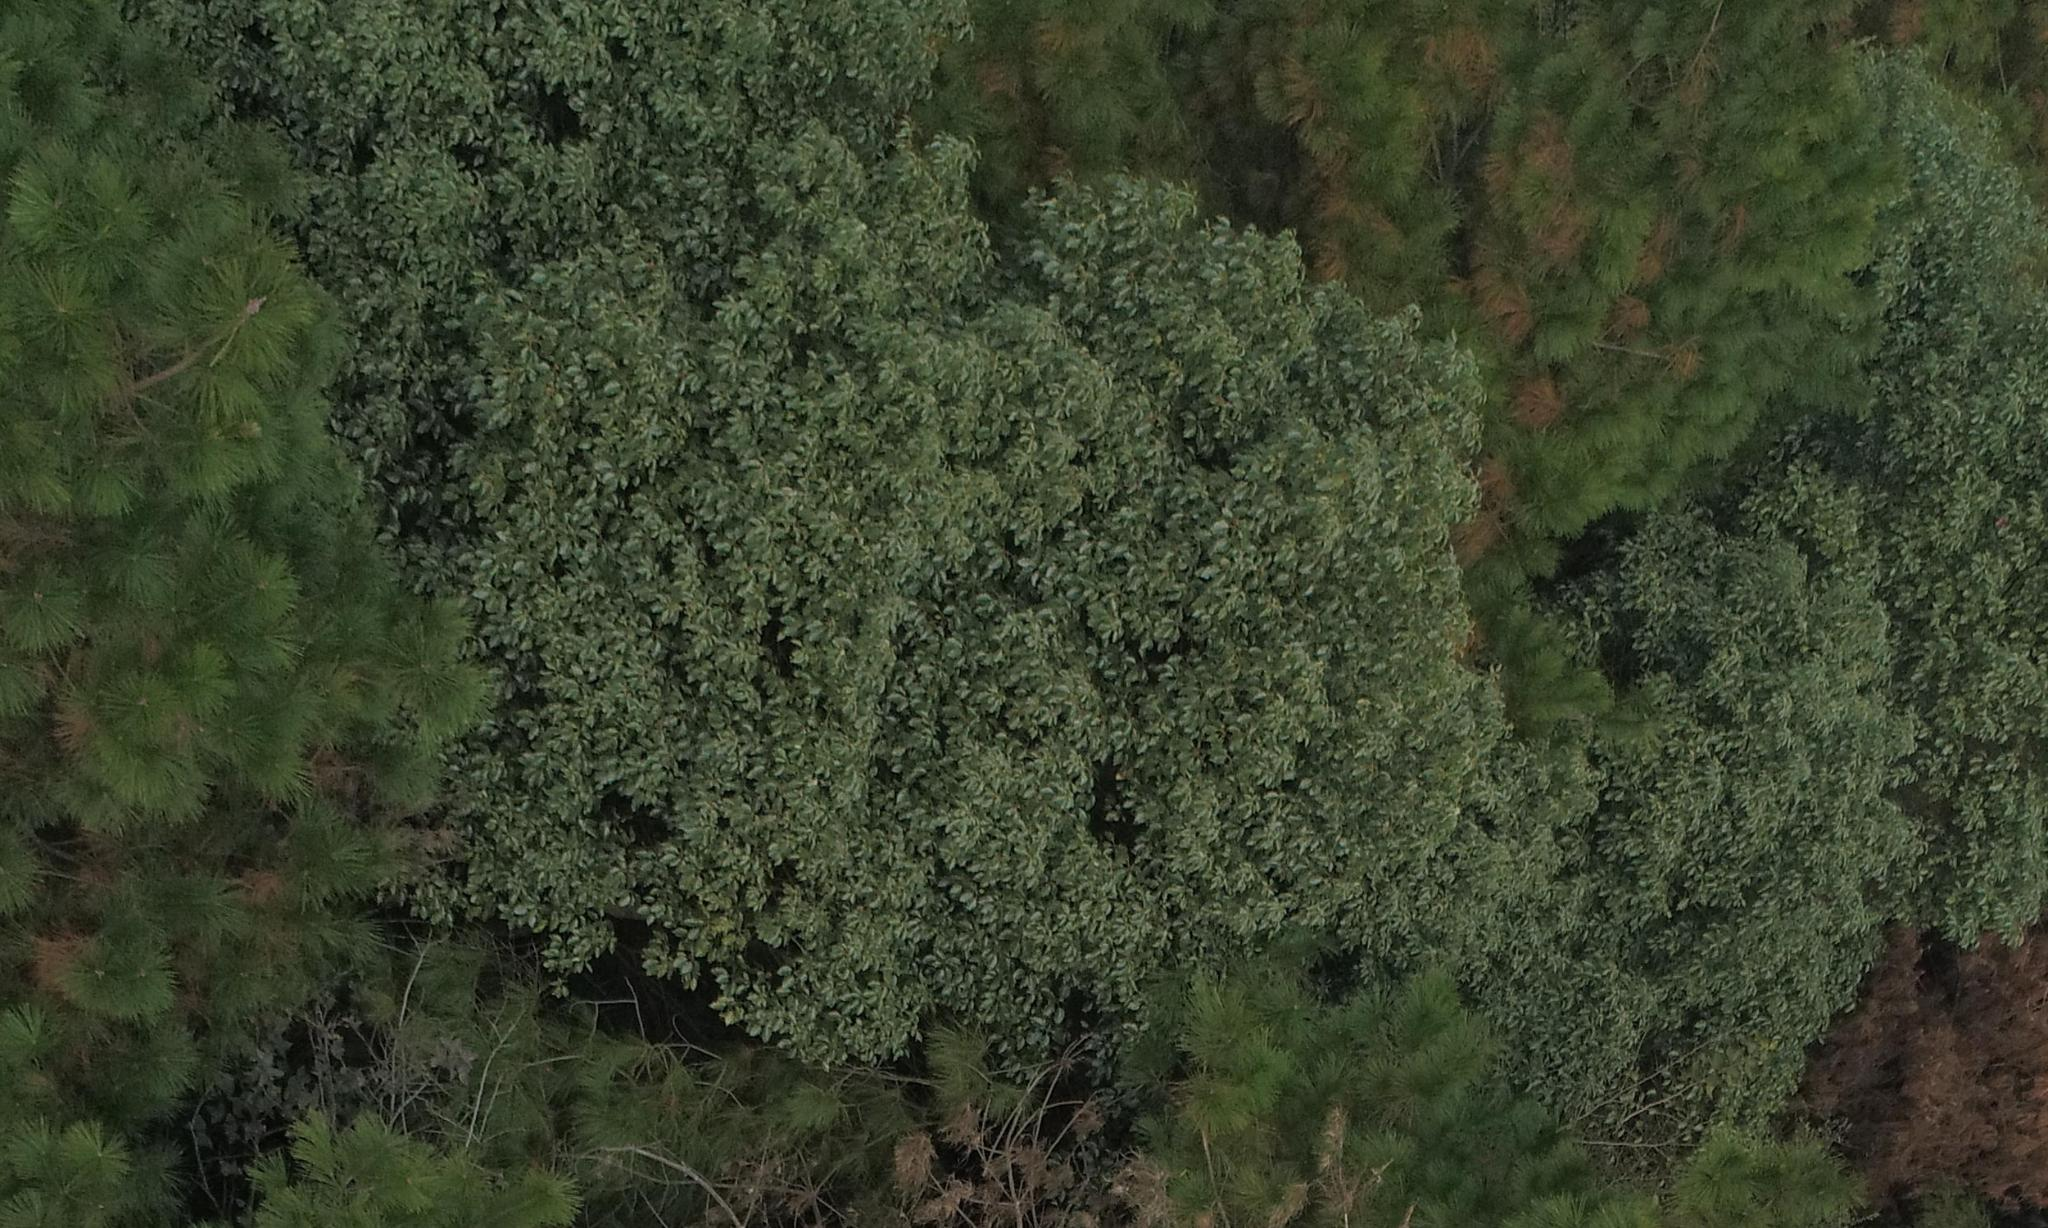heavy: (1816, 930, 2030, 1206)
light: (1267, 20, 1681, 573), (15, 493, 360, 1016)
